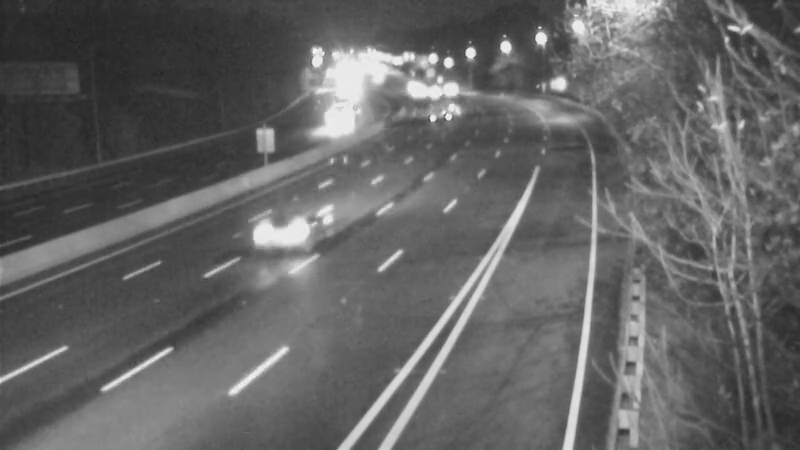vehicle: (242, 190, 322, 270), (410, 76, 460, 126), (301, 103, 351, 153)
